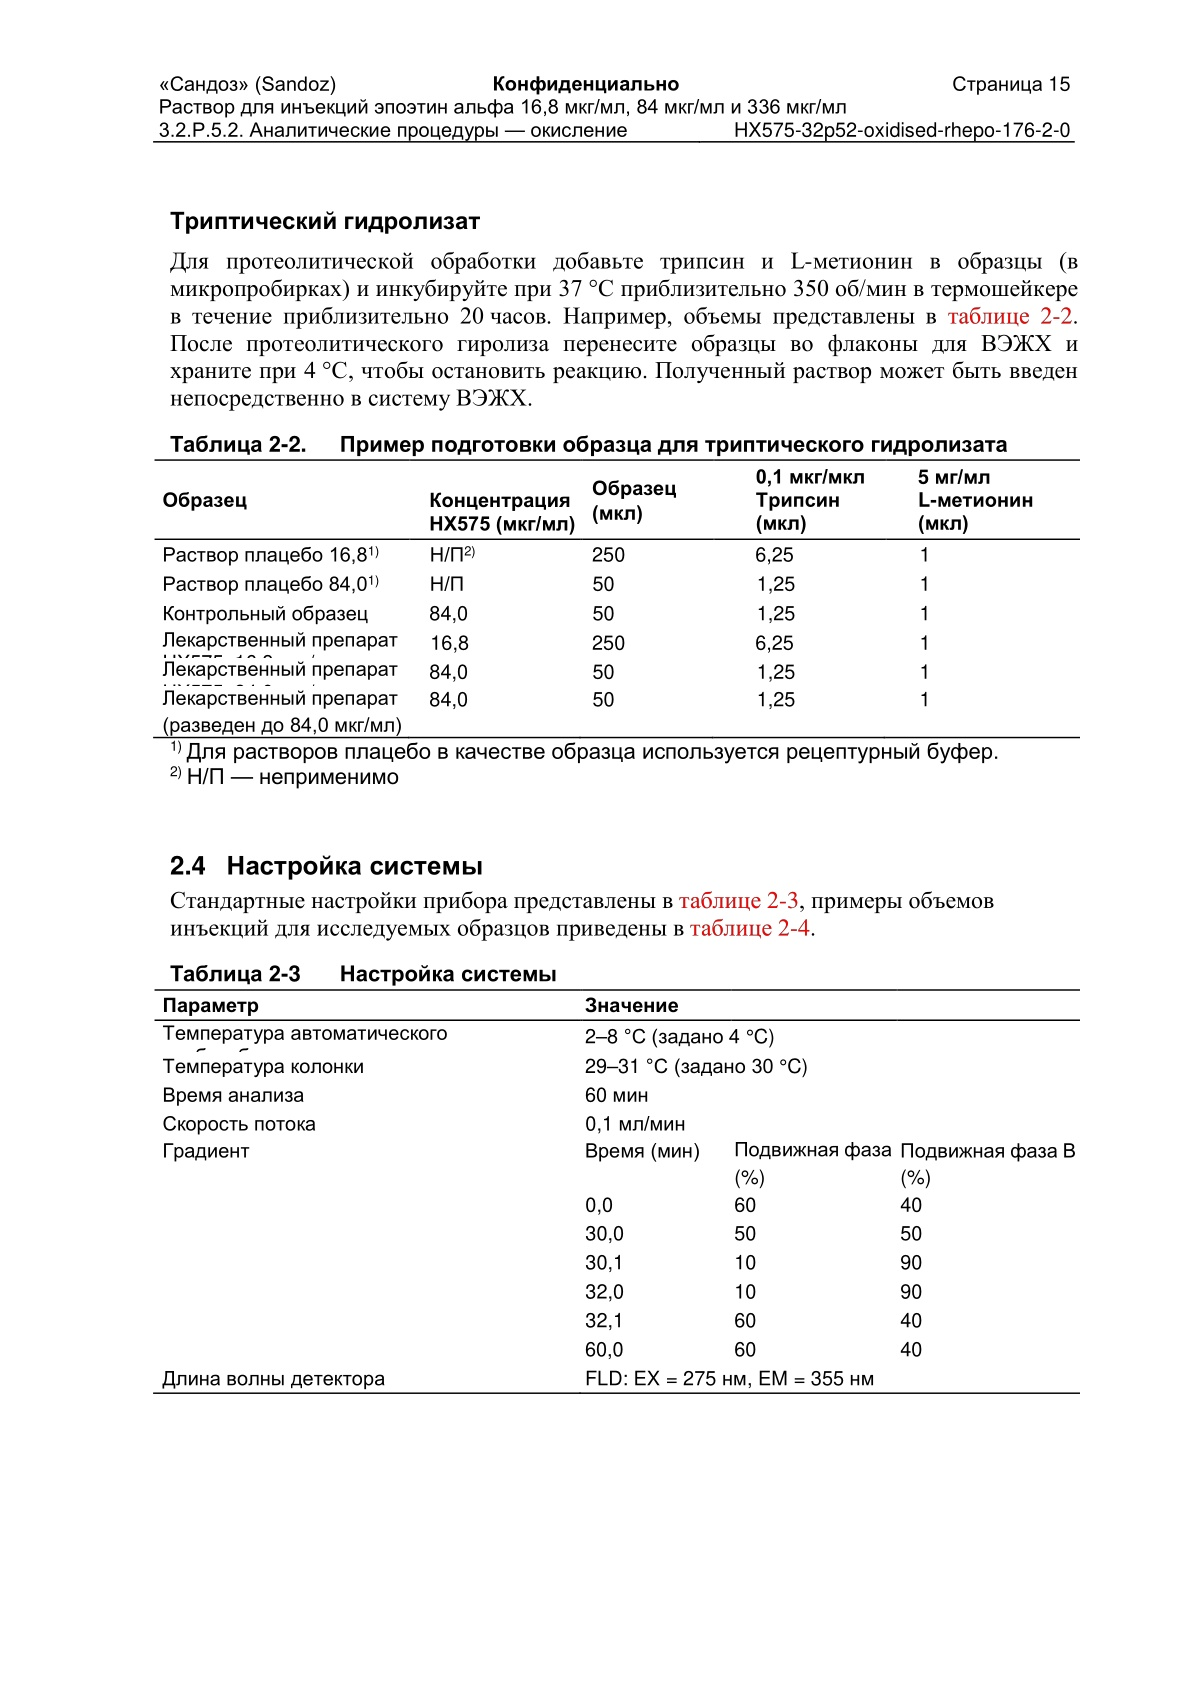partial_lined: (151, 988, 1083, 1395), (152, 459, 1081, 740)
